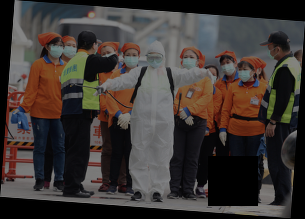with_mask: (48, 41, 65, 59), (123, 52, 140, 70), (147, 53, 164, 69), (181, 54, 198, 70), (237, 66, 253, 83), (220, 59, 235, 77), (63, 42, 78, 59), (266, 44, 277, 62), (92, 43, 99, 56)
